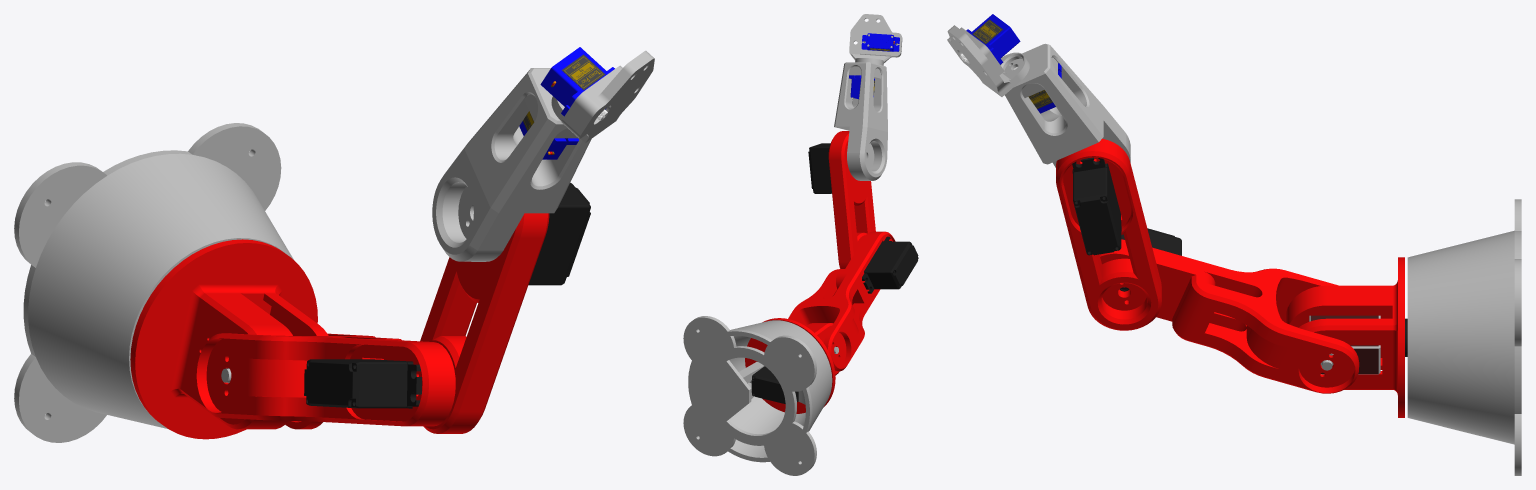
3 views of the same model, side by side, from view 1: azimuth 30°, elevation 25°; view 2: azimuth 150°, elevation 25°; view 3: azimuth 270°, elevation 25° (orthographic). The views are drawn at different scales.
Parts seen in each view (by area): view 1: Solid1 (×5), Solid2, Sólido1 (×5), Těleso1, Solid3; view 2: Solid2, Solid1 (×4), Sólido1 (×6), Těleso1, Solid8; view 3: Solid1 (×5), Solid2, Sólido1 (×2), Těleso1.
Part boxes in pixels (x1,y1,x2,y2): Solid1 (×5): (130,55,606,439); Solid2: (14,123,293,442); Sólido1 (×5): (304,182,590,408); Těleso1: (551,50,654,142); Solid3: (562,54,605,90); Solid2: (683,316,832,475); Solid1 (×4): (745,62,895,413); Sólido1 (×6): (751,143,918,403); Těleso1: (849,14,902,65); Solid8: (866,33,893,49); Solid1 (×5): (1005,43,1404,417); Solid2: (1407,199,1521,475); Sólido1 (×2): (1073,167,1121,255); Těleso1: (947,25,1029,96).
Bounding box in the file's own units: 0.1411 × 0.2835 × 0.3221.
